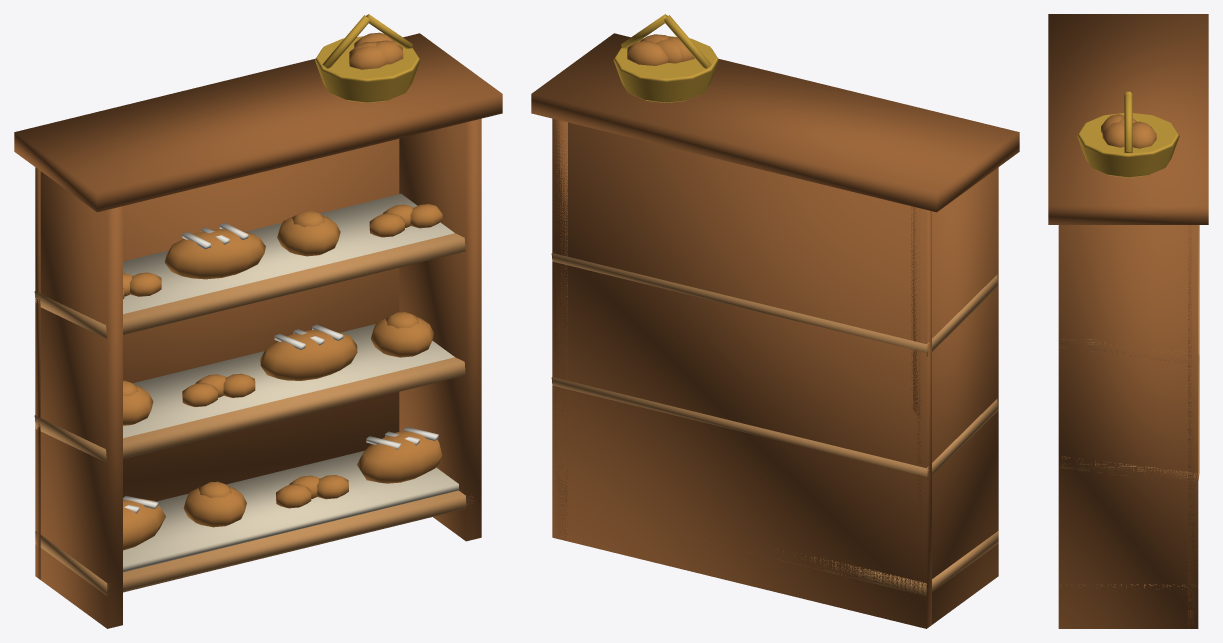
The model's file is bread_shelf.glb.
The picture shows the model from 3 angles, left to right: view 1: azimuth 30°, elevation 25°; view 2: azimuth 150°, elevation 25°; view 3: azimuth 270°, elevation 25°; orthographic projection. The views are drawn at different scales.
Visible parts, largest first — view 1: bread_shelf; view 2: bread_shelf; view 3: bread_shelf.
Part boxes in pixels (left/top/right/bottom): bread_shelf: left=14, top=14, right=502, bottom=628; bread_shelf: left=531, top=14, right=1019, bottom=628; bread_shelf: left=1048, top=14, right=1208, bottom=628.
Size of the model in its own units: 1.3 by 1.58 by 0.46.
